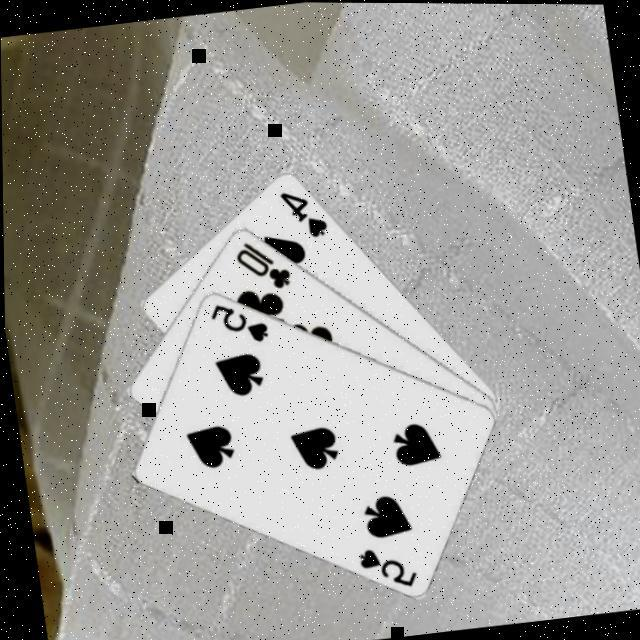10C: (228, 232, 293, 295)
4S: (273, 182, 329, 242)
5S: (350, 538, 417, 593), (203, 293, 269, 348)
